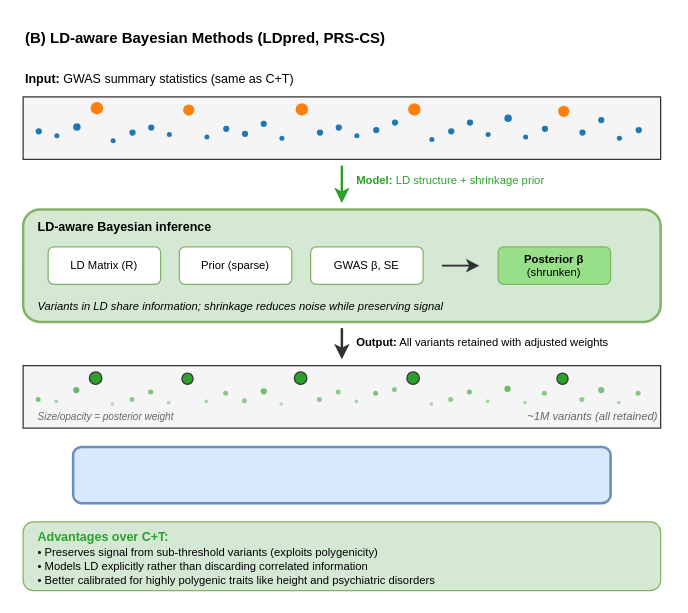
Image size: 688x613. Some labels were removed from this diagram. The shapes that lost their labels are listed below. From the top down, each one's centre as x and y in pixels, then its label:
At point (341, 127): "~1M variants".
At point (341, 474): "PGS = β̃₁×G₁ + β̃₂×G₂ + ... + β̃₁ₘ×G₁ₘ (all variants, shrunk weights)".
